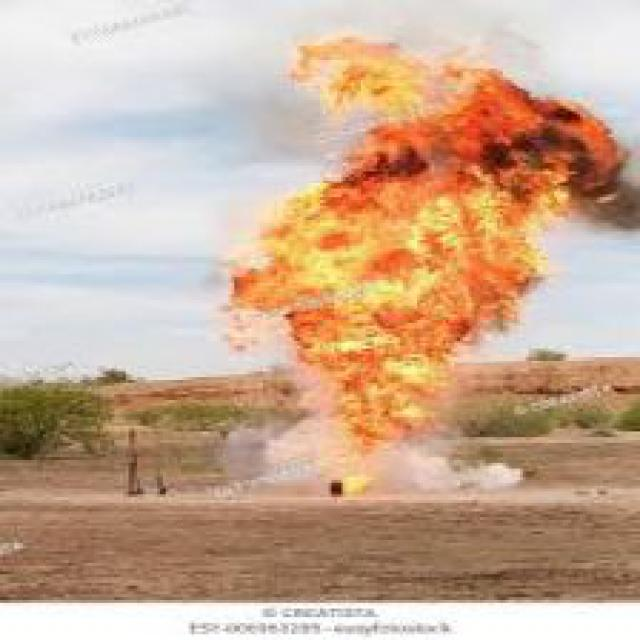fire: (206, 26, 637, 506)
